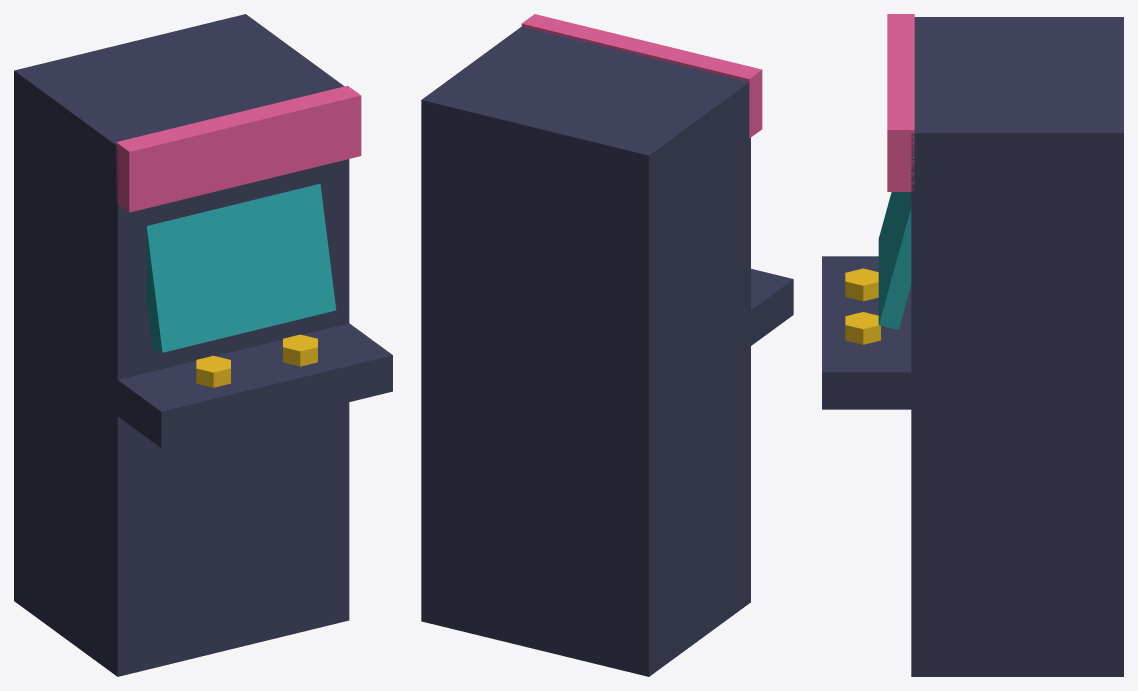
File: cabinet.glb
The picture shows the model from 3 angles, left to right: view 1: azimuth 30°, elevation 25°; view 2: azimuth 150°, elevation 25°; view 3: azimuth 270°, elevation 25°; orthographic projection. The views are drawn at different scales.
Parts seen in each view (by area): view 1: Body; view 2: Body; view 3: Body.
Part boxes in pixels (bbox=[...]): Body: bbox=[14, 14, 392, 676]; Body: bbox=[421, 14, 793, 676]; Body: bbox=[822, 14, 1123, 676].
Size of the model in its own units: 0.8 by 1.76 by 0.88.
